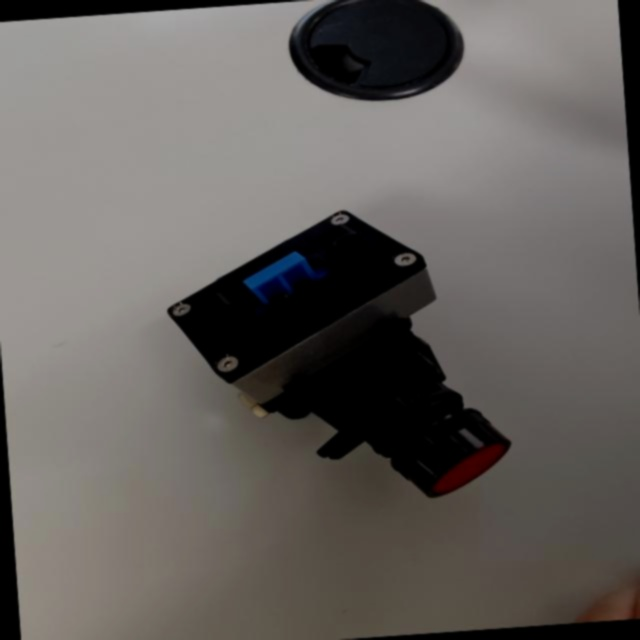push button: (161, 198, 517, 516)
